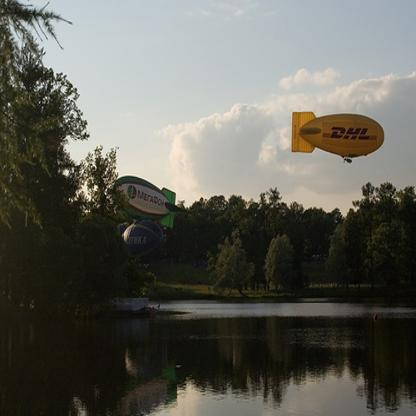Airship: (286, 107, 387, 172), (104, 173, 192, 230)
